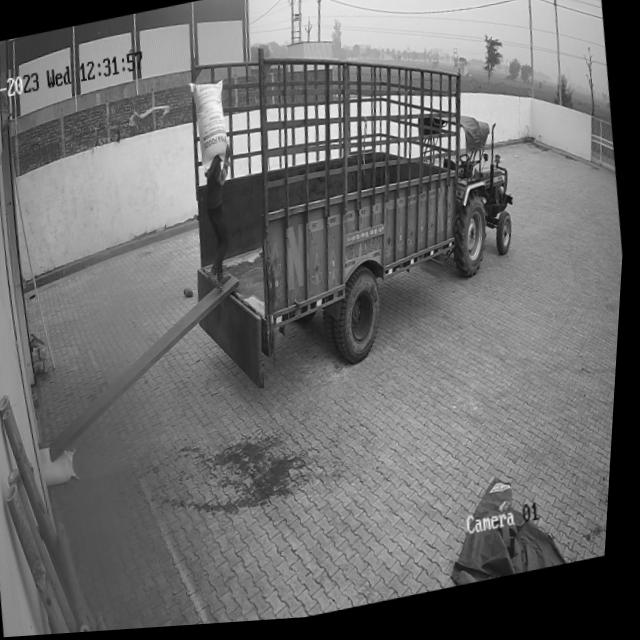sack: (187, 77, 235, 170), (44, 442, 85, 489)
